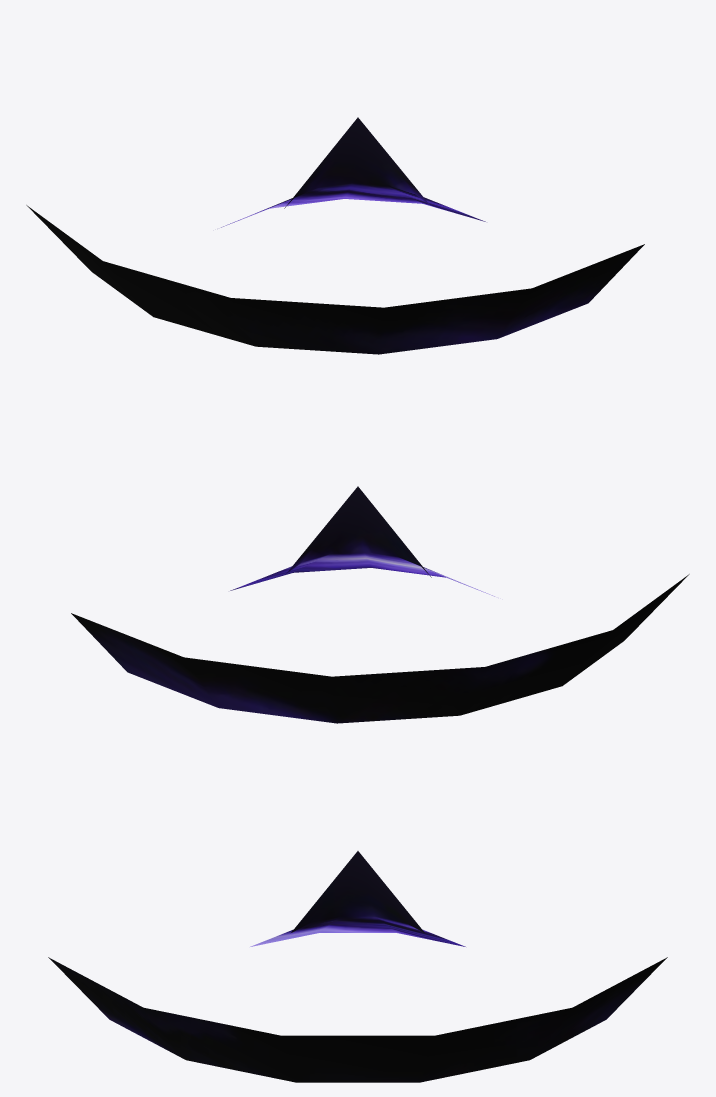
Rendered from warp01.glb.
3 views of the same model, one above another, from view 1: azimuth 30°, elevation 25°; view 2: azimuth 150°, elevation 25°; view 3: azimuth 270°, elevation 25° (orthographic).
Parts seen in each view (by area): view 1: model_warp01; view 2: model_warp01; view 3: model_warp01.
Boxes of the visible parts, x1,y1,x2,y2 form: model_warp01: (26,117,644,354); model_warp01: (71,486,689,723); model_warp01: (48,851,667,1082).
Size of the model in its own units: 2.37 by 0.6031 by 2.43.
Materials: 1 (1 with a texture image).
